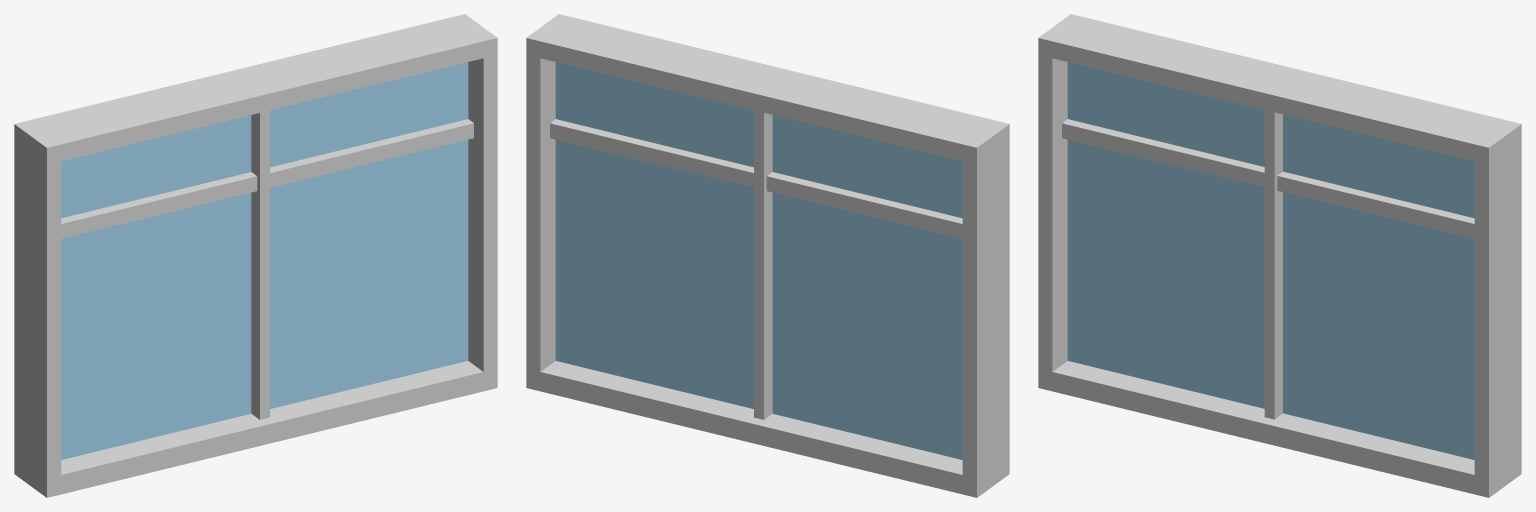
Rendered from window_019.fbx.
3 renders of one model, left to right at view 1: azimuth 30°, elevation 25°; view 2: azimuth 150°, elevation 25°; view 3: azimuth 330°, elevation 25°, orthographic.
Visible parts, largest first — view 1: window_019; view 2: window_019; view 3: window_019.
Boxes of the visible parts, left/top/right/bottom form: window_019: left=14, top=14, right=497, bottom=497; window_019: left=526, top=14, right=1009, bottom=497; window_019: left=1038, top=14, right=1521, bottom=497.
Bounding box in the file's own units: 225 × 28.28 × 167.
